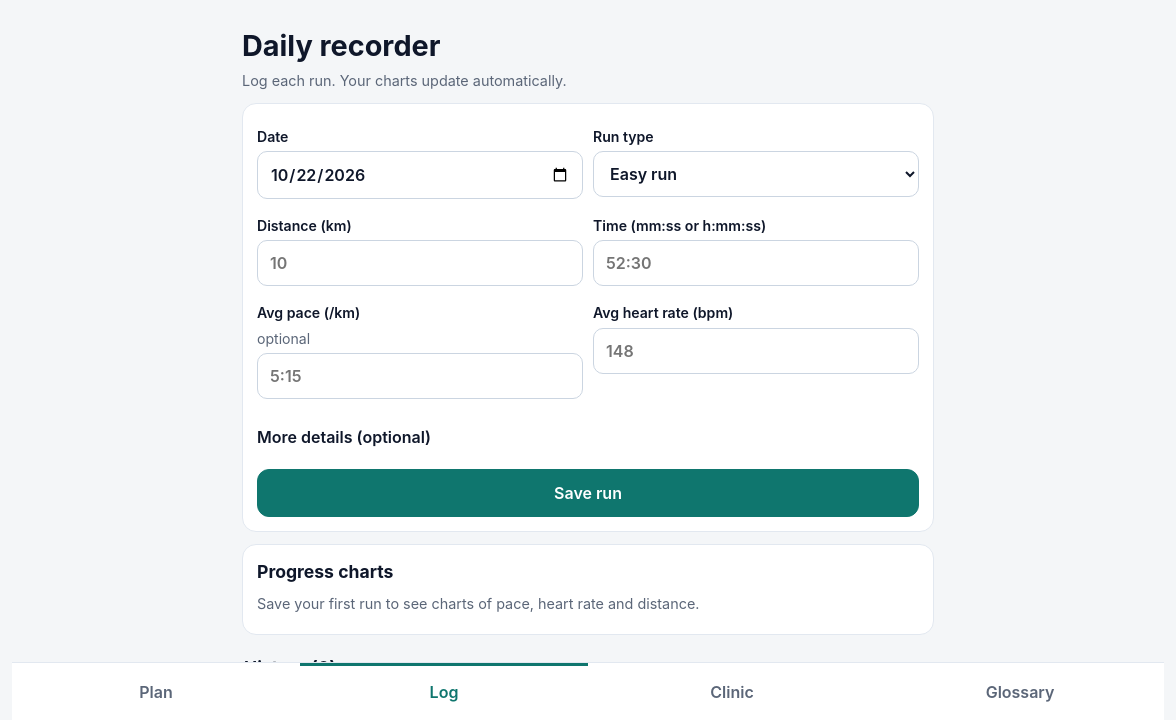
app flow › rejects an invalid time on the recorder
Type "5" into the field labelled "Distance (km)" at [420, 263], box x1=257 y1=240 x2=583 y2=286
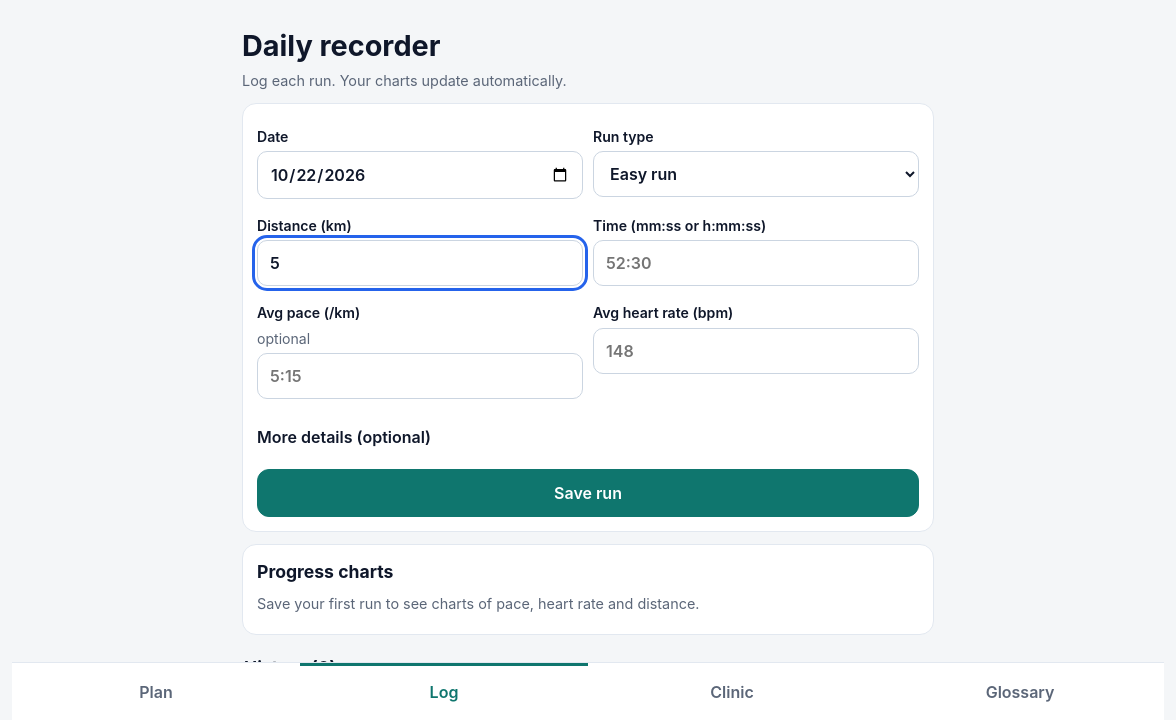
Type "abc" into the field labelled "Time (mm:ss or h:mm:ss)" at [756, 263], box x1=593 y1=240 x2=919 y2=286
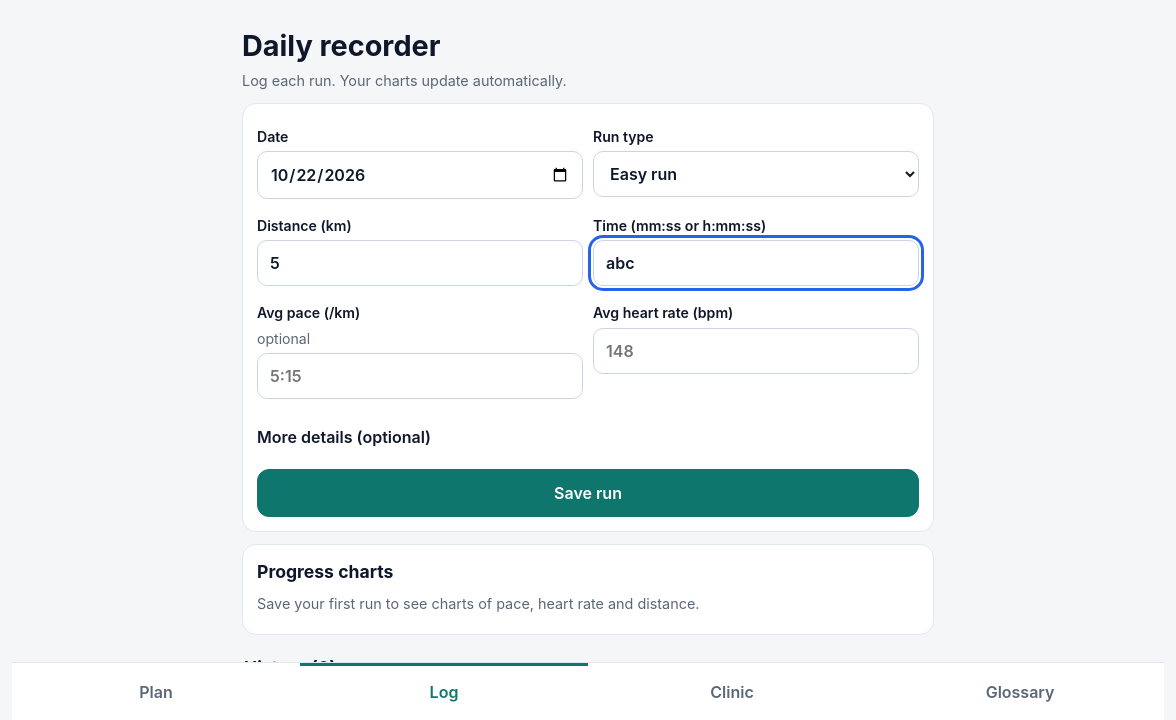
Click the button "Save run" at [588, 493], box x1=257 y1=469 x2=919 y2=517
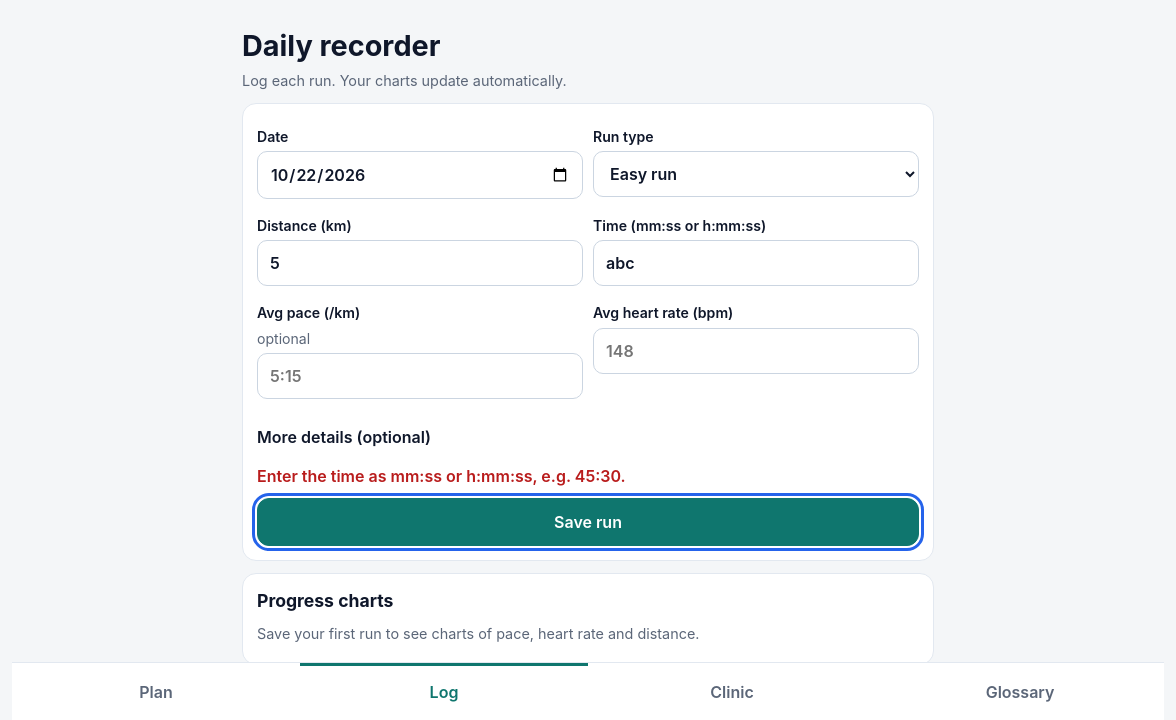
Expected: the message "Enter the time as mm:ss or h:mm:ss, e.g. 45:30." is shown, x1=257 y1=466 x2=626 y2=486
